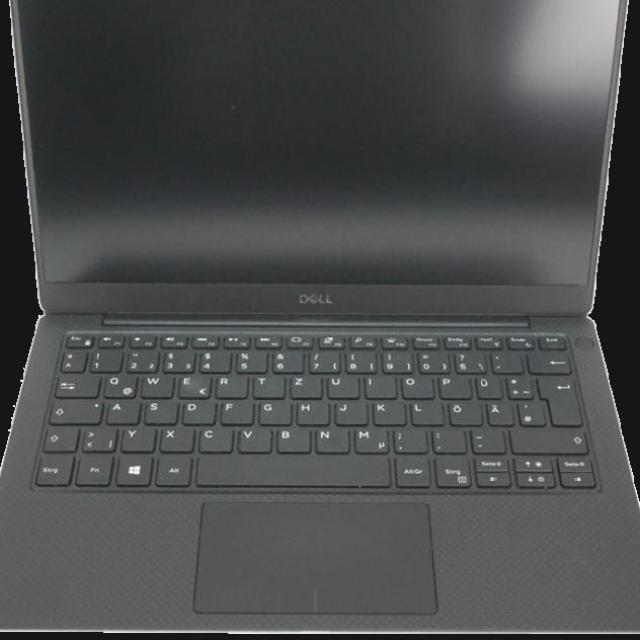0: (415, 348, 449, 372)
1: (88, 347, 121, 371)
2: (124, 348, 157, 371)
3: (160, 347, 192, 371)
4: (196, 348, 229, 371)
5: (233, 349, 265, 371)
6: (269, 349, 302, 371)
7: (306, 348, 339, 371)
8: (343, 348, 376, 372)
9: (379, 348, 412, 372)
a: (104, 398, 138, 422)
accent: (488, 349, 521, 372)
ae: (484, 399, 512, 424)
alt-left: (154, 452, 190, 485)
altgr-right: (393, 453, 428, 485)
b: (273, 425, 309, 451)
c: (195, 425, 232, 451)
caret: (58, 348, 84, 370)
comma: (391, 426, 425, 452)
d: (179, 399, 214, 423)
del: (526, 349, 569, 372)
e: (175, 373, 209, 396)
enter: (536, 374, 580, 424)
f: (218, 398, 252, 423)
g: (256, 399, 290, 423)
h: (294, 399, 328, 423)
hash: (515, 398, 544, 424)
i: (361, 373, 395, 397)
j: (331, 399, 366, 423)
k: (370, 399, 404, 424)
keyboard: (21, 321, 609, 495)
l: (407, 399, 443, 424)
less: (79, 424, 115, 451)
m: (351, 425, 387, 452)
minus: (468, 425, 504, 452)
n: (312, 425, 347, 452)
o: (399, 374, 432, 397)
oe: (446, 400, 480, 424)
p: (436, 373, 470, 397)
plus: (504, 373, 532, 397)
point: (429, 426, 465, 452)
q: (100, 373, 136, 396)
r: (213, 373, 246, 397)
s: (142, 398, 175, 422)
shift-left: (39, 424, 76, 451)
shift-lock: (47, 397, 101, 422)
shift-right: (508, 425, 587, 452)
space: (193, 453, 389, 485)
ss: (452, 349, 484, 372)
strg-left: (32, 452, 72, 484)
strg-right: (432, 453, 469, 485)
t: (250, 373, 283, 396)
tab: (53, 371, 98, 395)
u: (324, 374, 358, 397)
ue: (473, 374, 500, 397)
v: (235, 425, 270, 452)
w: (138, 372, 172, 396)
x: (157, 425, 192, 451)
y: (118, 424, 154, 451)
z: (287, 374, 320, 397)
